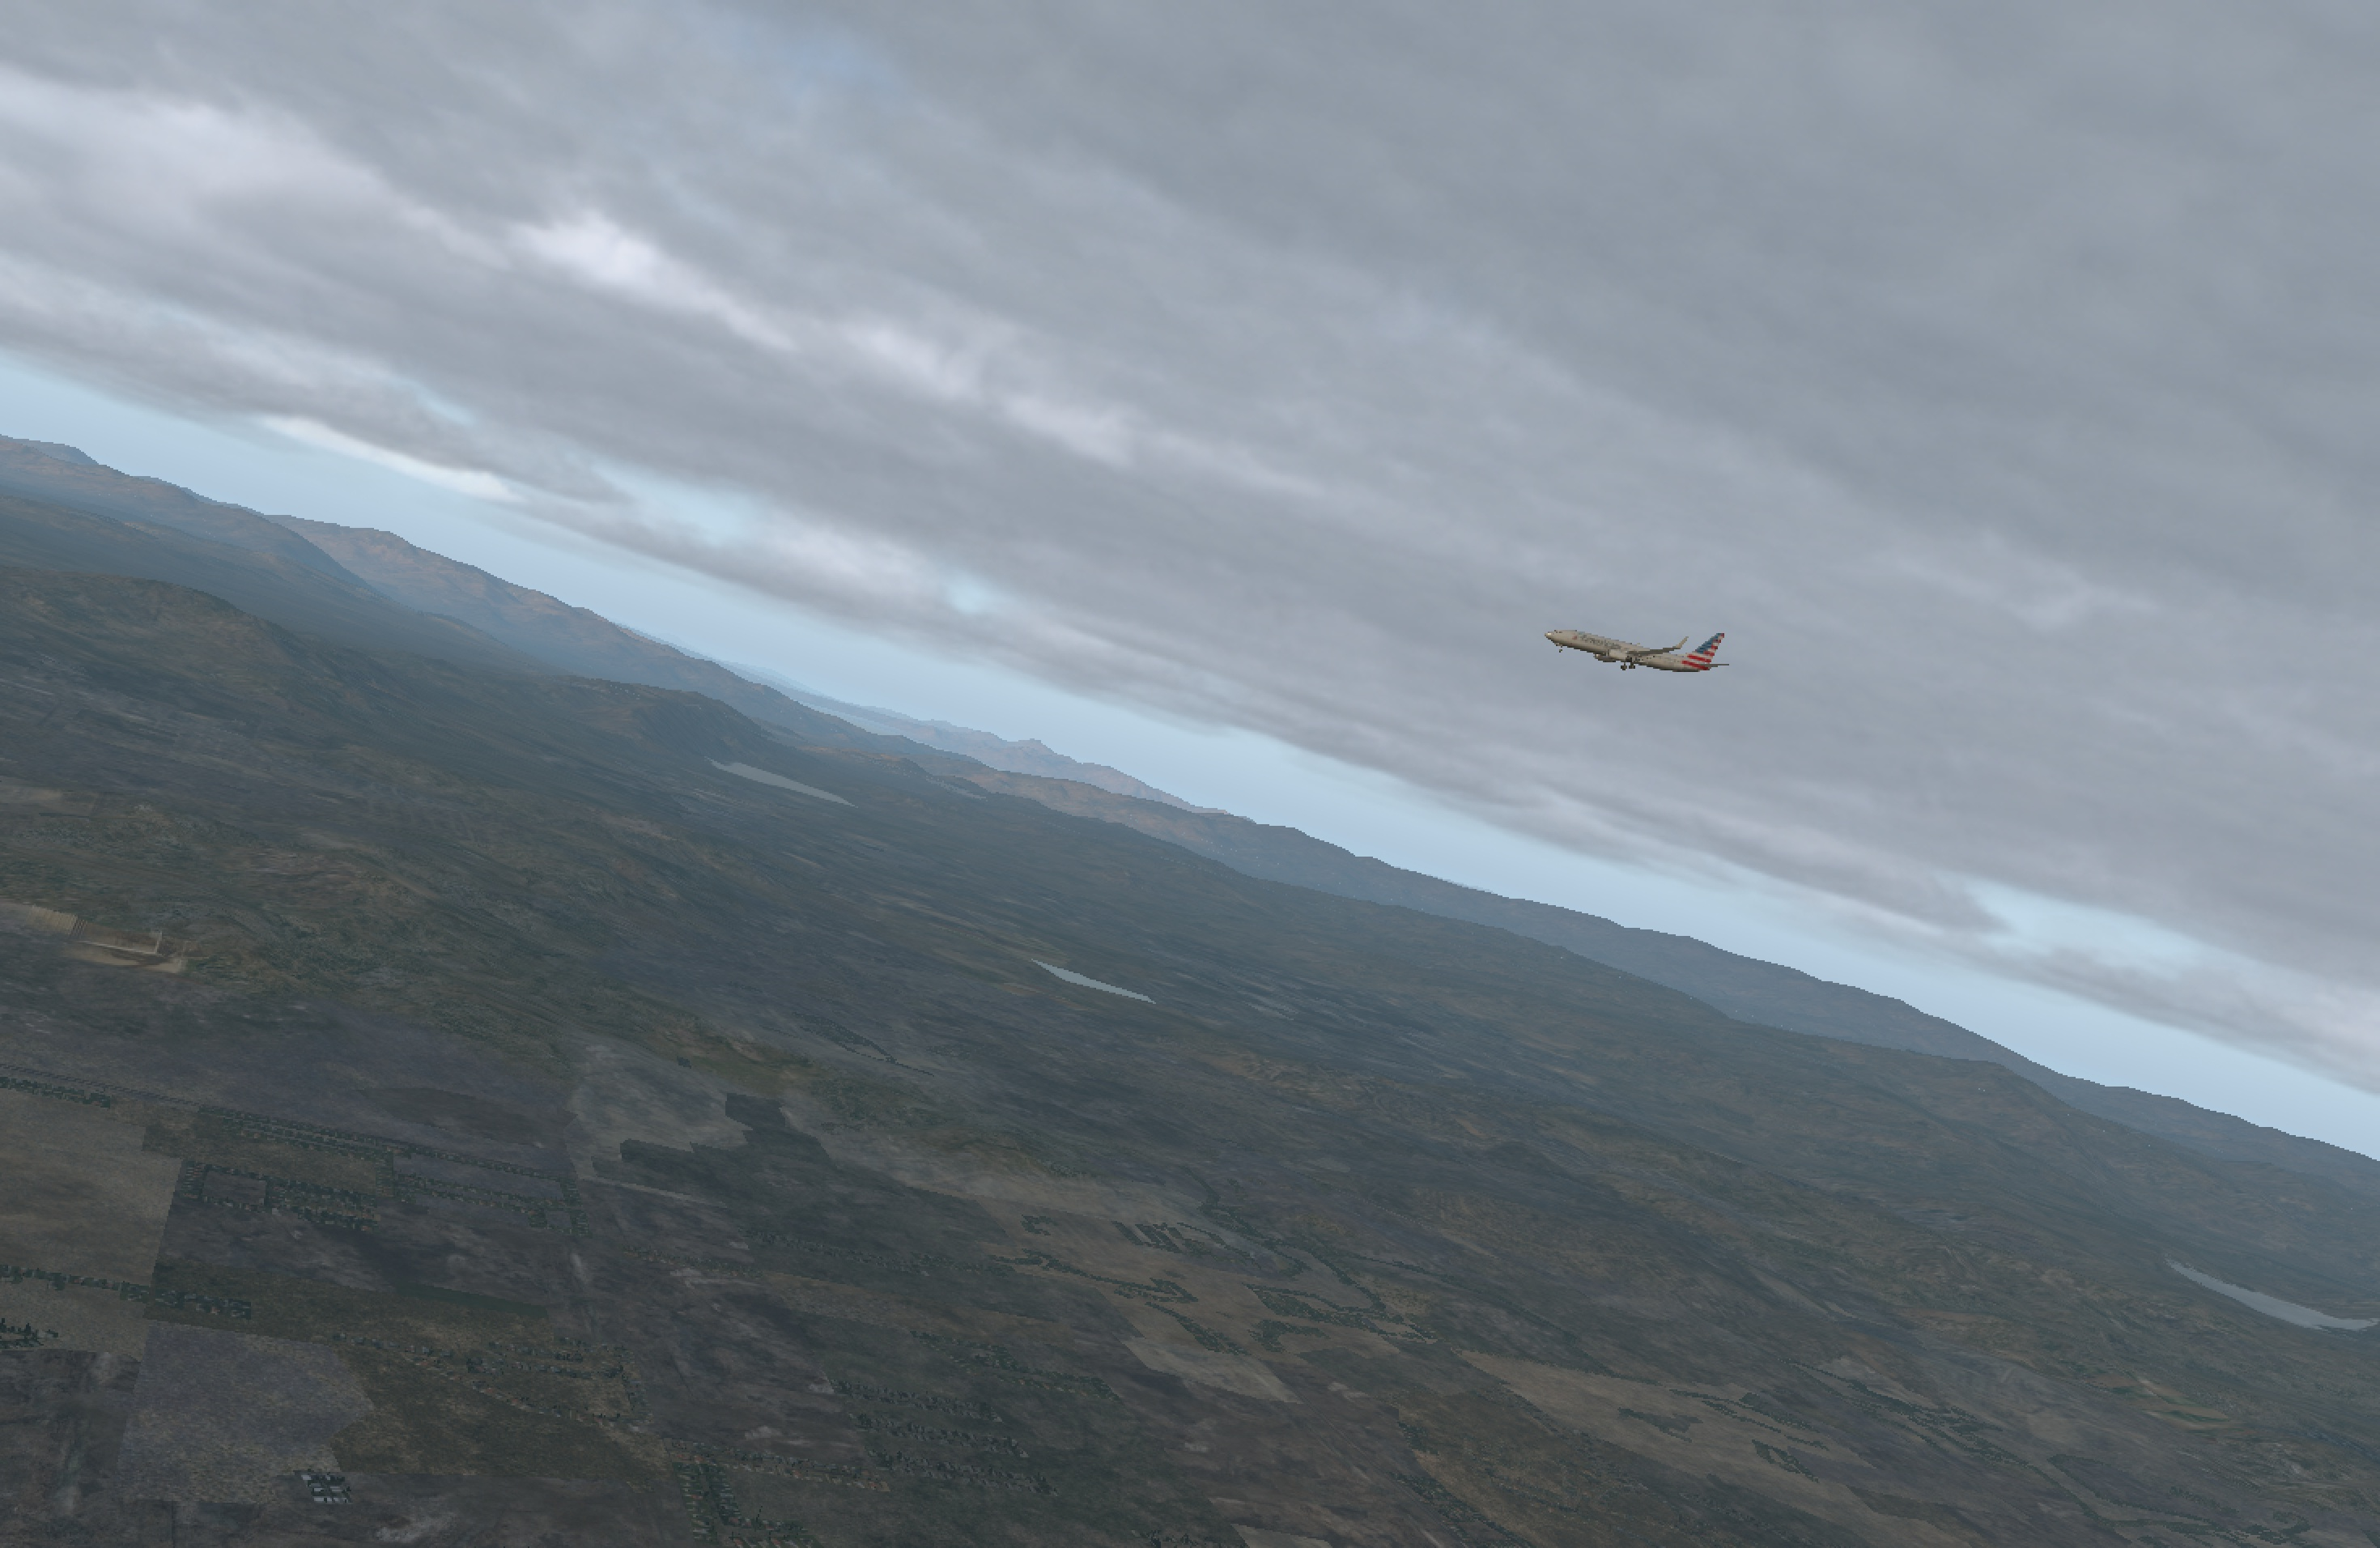aircraft: (1537, 621, 1712, 687)
